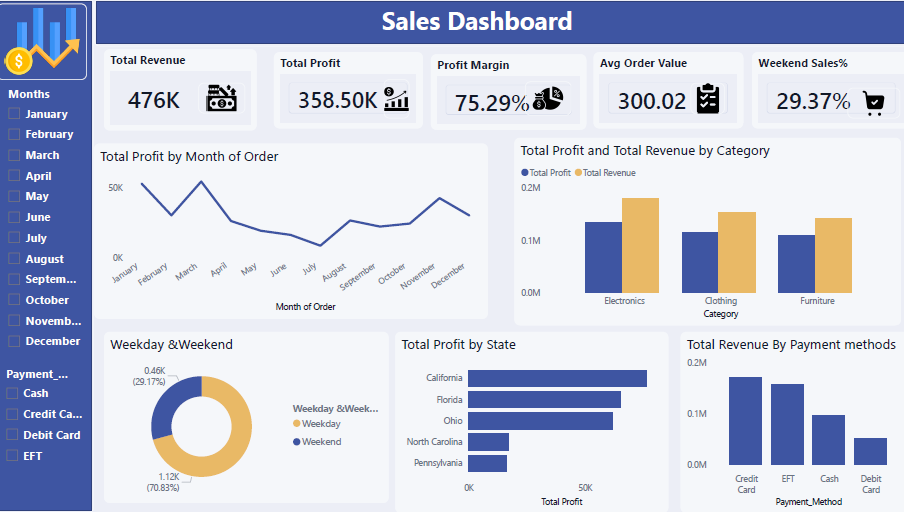

What the dashboard file says about the page in this screenshot:
{"tool":"powerbi","page":{"name":"Page 1","canvas":[1280,720],"ordinal":0},"visuals":[{"type":"shape","box":[0,0,136.1,720.8],"z":0},{"type":"shape","box":[136.1,0,1144.4,66.7],"z":1000},{"type":"cardVisual","title":"Total Revenue","fields":{"Data":["Measure.Total Revenue"]},"box":[149.6,71.4,214.1,113.9],"z":2000},{"type":"cardVisual","title":"Total Profit","fields":{"Data":["Measure.Total Profit"]},"box":[388.3,75.5,208.6,107],"z":3000},{"type":"cardVisual","title":"Profit Margin","fields":{"Data":["Measure.Profit Margin"]},"box":[608,78.4,218.4,106.2],"z":4000},{"type":"cardVisual","title":"Avg Order Value","fields":{"Data":["Measure.Avg Order Value"]},"box":[835.7,75.5,209.9,107],"z":5000},{"type":"cardVisual","title":"Weekend Sales%","fields":{"Data":["Measure.Weekend Sales %"]},"box":[1058,75.5,222.3,107],"z":6000},{"type":"slicer","fields":{"Values":["Order Details.Month of Order"]},"box":[2.8,118.1,120.8,391.7],"z":7000},{"type":"donutChart","title":" Weekday &Weekend","fields":{"Y":["CountNonNull(Order Details.Weekday &Weekend)"],"Category":["Order Details.Weekday &Weekend"]},"box":[149.6,466.6,399.3,240.1],"z":8000},{"type":"lineChart","fields":{"Y":["Measure.Total Profit"],"Category":["Order Details.Month of Order"]},"box":[135.8,203.1,551.6,245.6],"z":9000},{"type":"clusteredColumnChart","fields":{"Category":["Order Details.Category"],"Y":["Measure.Total Profit","Measure.Total Revenue"]},"box":[724.5,194.9,542,263.5],"z":10000},{"type":"clusteredBarChart","fields":{"Category":["Order Details.State"],"Y":["Measure.Total Profit"]},"box":[558.5,466.6,382.8,253.9],"z":11000},{"type":"clusteredColumnChart","title":"Total Revenue By Payment methods","fields":{"Category":["Order Details.Payment_Method"],"Y":["Measure.Total Revenue"]},"box":[957.8,466.6,322.5,253.9],"z":12000},{"type":"image","box":[282.3,118.2,66.4,43.4],"z":13000},{"type":"image","box":[542,112.5,35.7,54.9],"z":14000},{"type":"image","box":[739.5,115.8,65.1,48.3],"z":15000},{"type":"image","box":[971.5,118,48,43.9],"z":16000},{"type":"image","box":[1192.5,124.9,74.1,42.5],"z":17000},{"type":"image","box":[0,6.9,126.2,107],"z":18000},{"type":"shape","title":"Sales Dashboard","box":[256.9,6.9,831.9,43.1],"z":19000},{"type":"slicer","fields":{"Values":["Order Details.Payment_Method"]},"box":[0,509.7,126.4,197.2],"z":20000}]}

Visuals, with their boxes in screenshot pixels (x1, y1, x2, y2), scaled from the page's 1280x720 canvas onto the 904x512 screenshot:
shape: <bbox>0, 0, 96, 511</bbox>
shape: <bbox>96, 0, 903, 47</bbox>
"Total Revenue" cardVisual: <bbox>106, 51, 257, 132</bbox>
"Total Profit" cardVisual: <bbox>274, 54, 422, 130</bbox>
"Profit Margin" cardVisual: <bbox>429, 56, 584, 131</bbox>
"Avg Order Value" cardVisual: <bbox>590, 54, 738, 130</bbox>
"Weekend Sales%" cardVisual: <bbox>747, 54, 903, 130</bbox>
slicer - Order Details.Month of Order: <bbox>2, 84, 87, 363</bbox>
" Weekday &Weekend" donutChart: <bbox>106, 332, 388, 503</bbox>
lineChart - Measure.Total Profit x Order Details.Month of Order: <bbox>96, 144, 485, 319</bbox>
clusteredColumnChart - Order Details.Category x Measure.Total Profit: <bbox>512, 139, 894, 326</bbox>
clusteredBarChart - Order Details.State x Measure.Total Profit: <bbox>394, 332, 665, 511</bbox>
"Total Revenue By Payment methods" clusteredColumnChart: <bbox>676, 332, 903, 511</bbox>
image: <bbox>199, 84, 246, 115</bbox>
image: <bbox>383, 80, 408, 119</bbox>
image: <bbox>522, 82, 568, 117</bbox>
image: <bbox>686, 84, 720, 115</bbox>
image: <bbox>842, 89, 895, 119</bbox>
image: <bbox>0, 5, 89, 81</bbox>
"Sales Dashboard" shape: <bbox>181, 5, 769, 36</bbox>
slicer - Order Details.Payment_Method: <bbox>0, 362, 89, 503</bbox>
